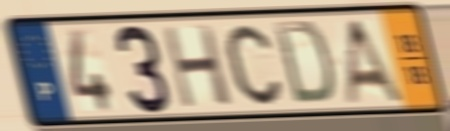3: (112, 20, 171, 117)
4: (68, 26, 115, 115)
A: (341, 16, 407, 106)
C: (223, 22, 285, 108)
D: (270, 19, 337, 108)
H: (159, 22, 236, 111)
